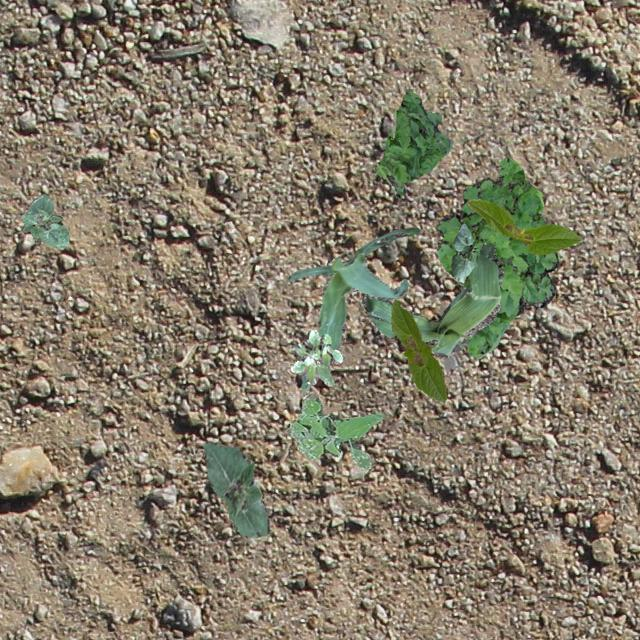crop: (288, 226, 418, 392), (360, 242, 502, 358), (466, 198, 580, 254), (202, 442, 268, 536), (390, 298, 446, 401), (19, 192, 68, 246), (449, 222, 476, 282)
weed: (436, 156, 558, 358), (374, 90, 451, 198), (284, 392, 380, 468), (288, 330, 342, 384)
